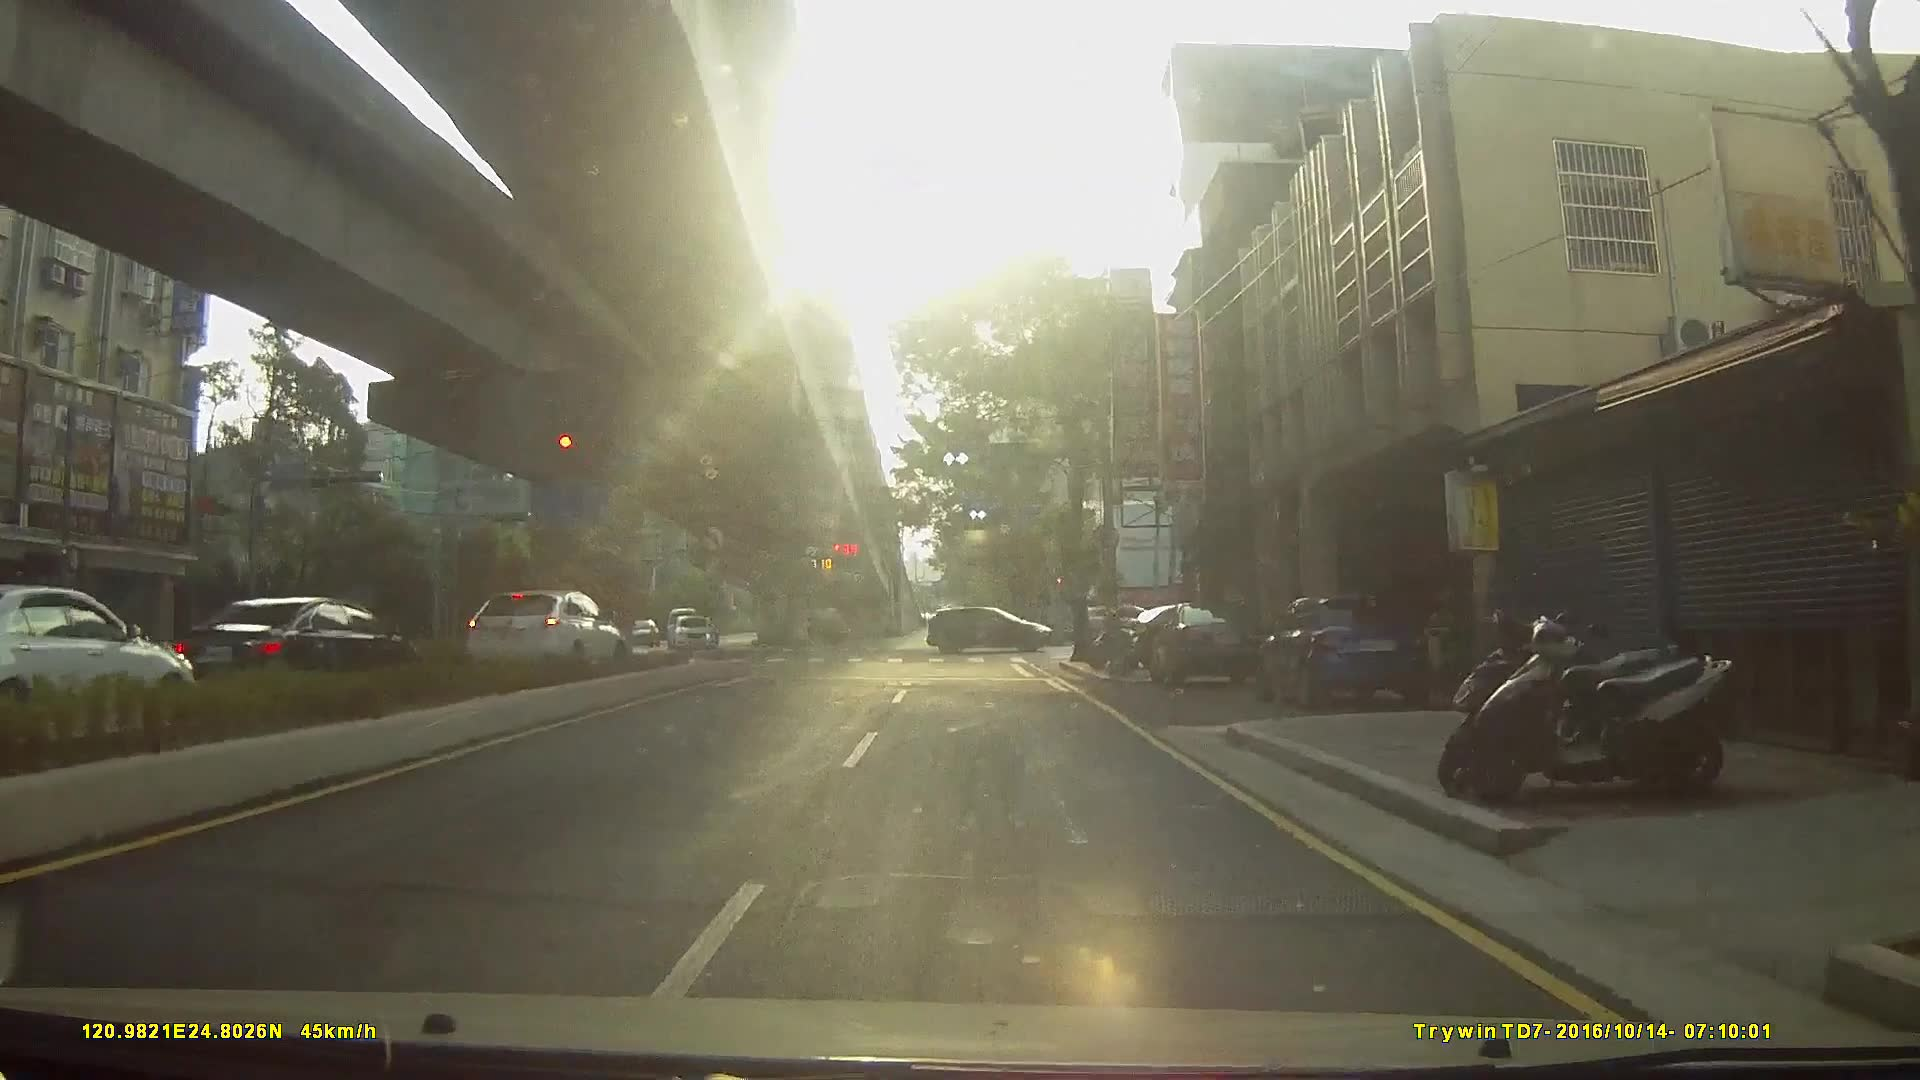vehicle: (1, 583, 198, 740), (164, 596, 419, 705), (1262, 593, 1443, 716), (455, 591, 620, 675), (1149, 600, 1273, 691), (928, 605, 1056, 655), (669, 613, 715, 651), (617, 620, 658, 649)
